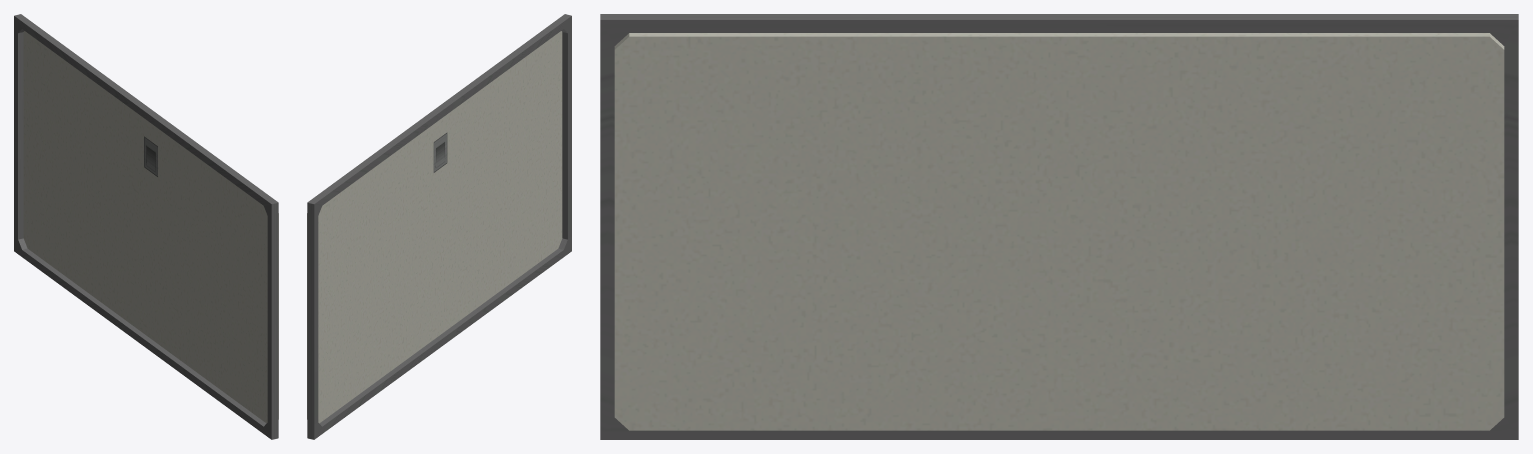
The model's file is hjk_crash_airplane_cabinet_door_lrg_LOD0.obj.
3 views of the same model, side by side, from view 1: azimuth 30°, elevation 25°; view 2: azimuth 150°, elevation 25°; view 3: azimuth 270°, elevation 25° (orthographic). The views are drawn at different scales.
Visible parts, largest first — view 1: hjk_interior_plastic_tile_lwr_lvl, hjk_metal_trim, hjk_cabinet_pull; view 2: hjk_interior_plastic_tile_lwr_lvl, hjk_metal_trim, hjk_cabinet_pull; view 3: hjk_interior_plastic_tile_lwr_lvl, hjk_metal_trim.
Boxes of the visible parts, <box> form: hjk_interior_plastic_tile_lwr_lvl: <box>23,31,278,423</box>; hjk_metal_trim: <box>14,14,278,439</box>; hjk_cabinet_pull: <box>144,136,157,176</box>; hjk_interior_plastic_tile_lwr_lvl: <box>307,31,562,423</box>; hjk_metal_trim: <box>307,14,571,439</box>; hjk_cabinet_pull: <box>433,132,447,172</box>; hjk_interior_plastic_tile_lwr_lvl: <box>614,33,1504,430</box>; hjk_metal_trim: <box>600,14,1518,439</box>.
Size of the model in its own units: 4.08 by 81.66 by 162.
